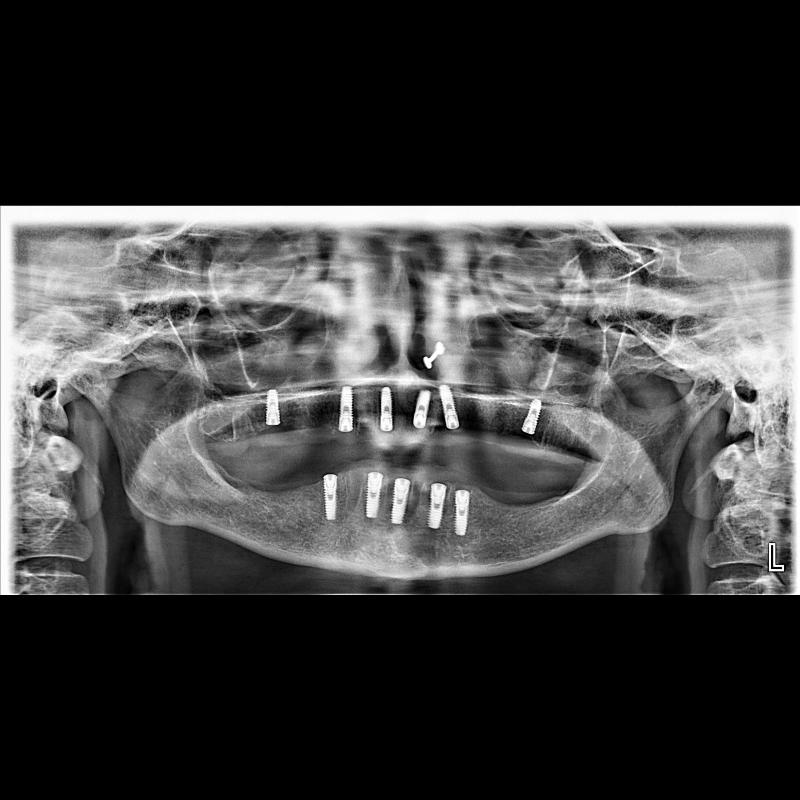osstem: (388, 476, 414, 526), (362, 468, 384, 522), (451, 487, 473, 541), (436, 384, 460, 432), (335, 384, 357, 432), (425, 480, 445, 532), (519, 396, 543, 436), (323, 472, 341, 522), (264, 388, 286, 426), (412, 384, 428, 432), (379, 388, 395, 435)
